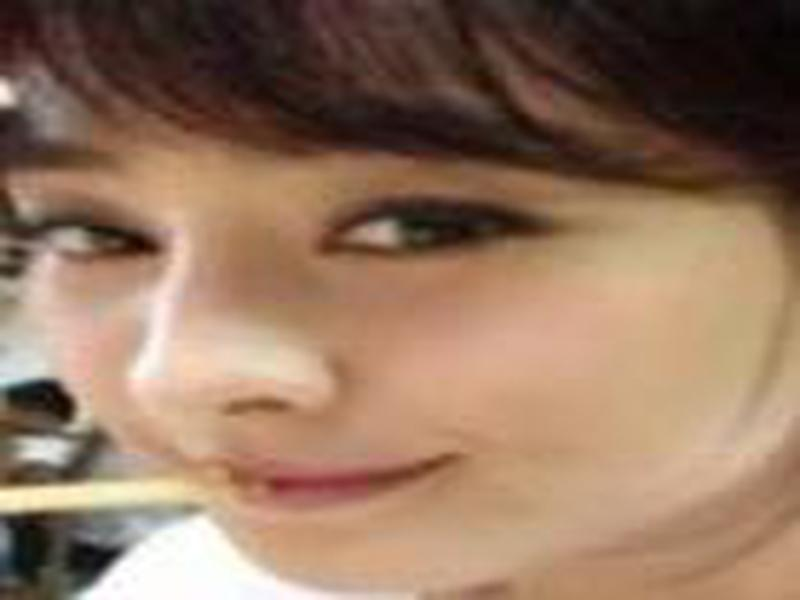without_mask: (6, 87, 780, 595)
